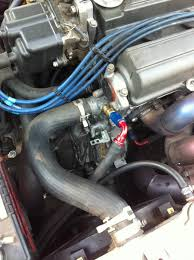radiator_hose: (27, 99, 141, 233)
